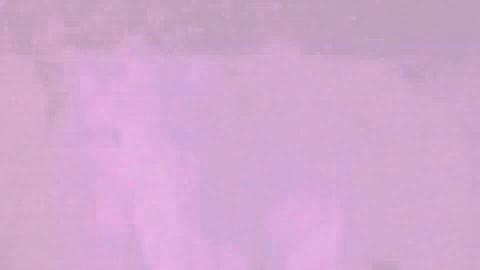tomato: (83, 115, 294, 268)
